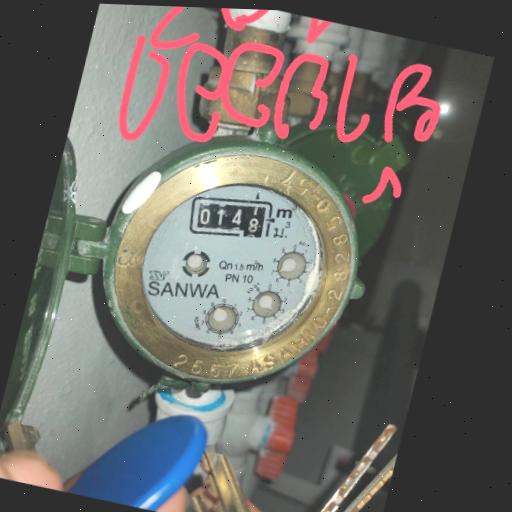0: (193, 200, 217, 231)
1: (208, 201, 233, 232)
4: (223, 202, 250, 233)
8: (239, 203, 269, 240)
border_water_meter_number: (182, 184, 279, 248)
